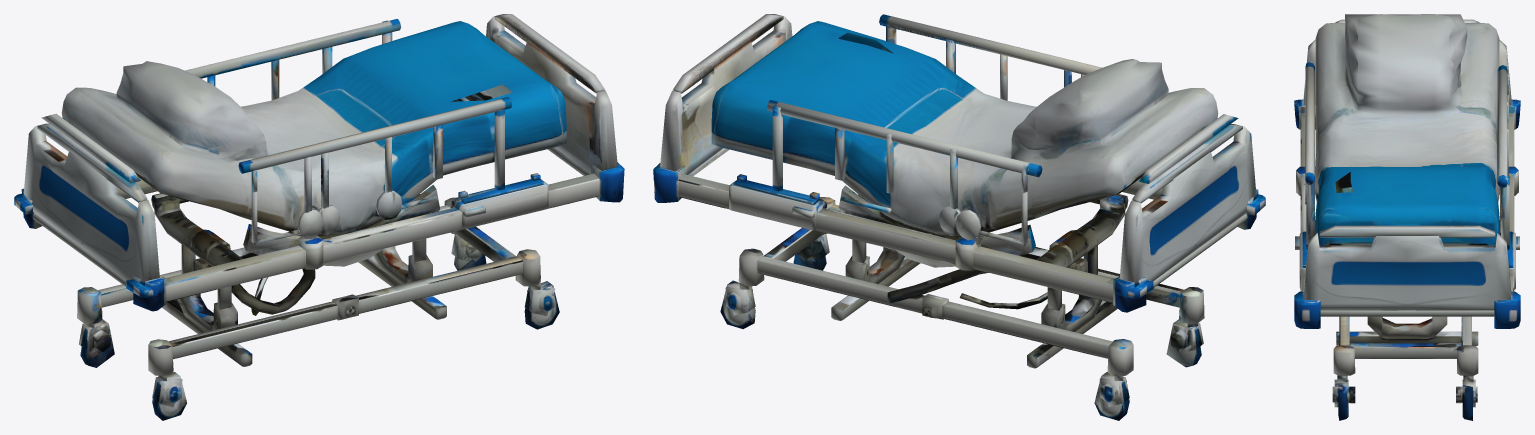
The model's file is hospitalbed2.fbx.
3 views of the same model, side by side, from view 1: azimuth 30°, elevation 25°; view 2: azimuth 150°, elevation 25°; view 3: azimuth 270°, elevation 25° (orthographic). The views are drawn at different scales.
Parts seen in each view (by area): view 1: tripo_node_b28ceda5; view 2: tripo_node_b28ceda5; view 3: tripo_node_b28ceda5.
Boxes of the visible parts, x1,y1,x2,y2 form: tripo_node_b28ceda5: (14, 14, 624, 420); tripo_node_b28ceda5: (653, 14, 1265, 420); tripo_node_b28ceda5: (1294, 14, 1520, 420).
Bounding box in the file's own units: 94.23 × 56.03 × 43.84.
Materials: 1 (1 with a texture image).
